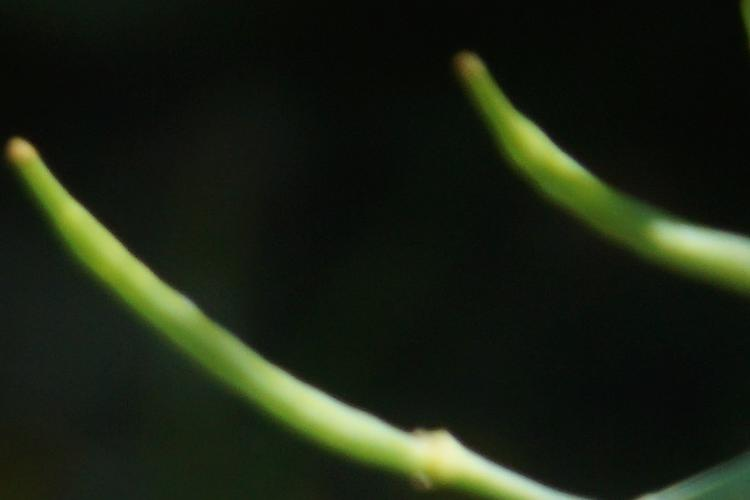pod: (8, 130, 427, 467), (466, 34, 749, 320)
